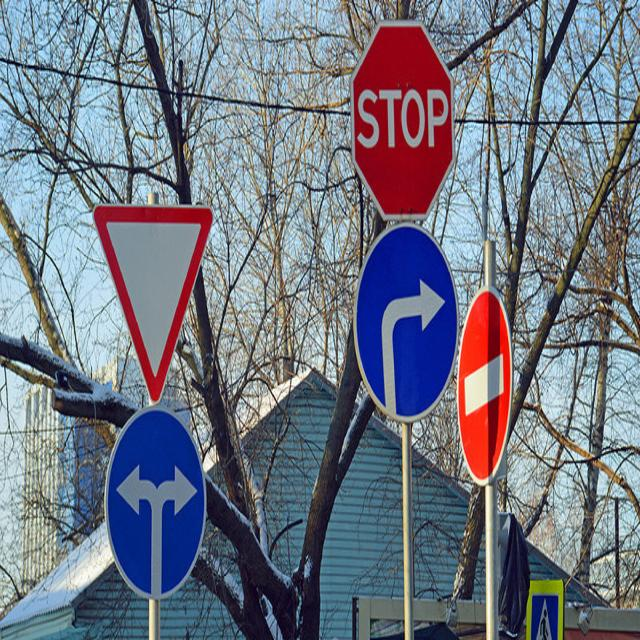Traffic sign: (94, 206, 220, 403), (343, 221, 458, 419), (349, 19, 454, 222), (104, 408, 208, 596), (460, 283, 514, 493), (526, 583, 562, 640)
